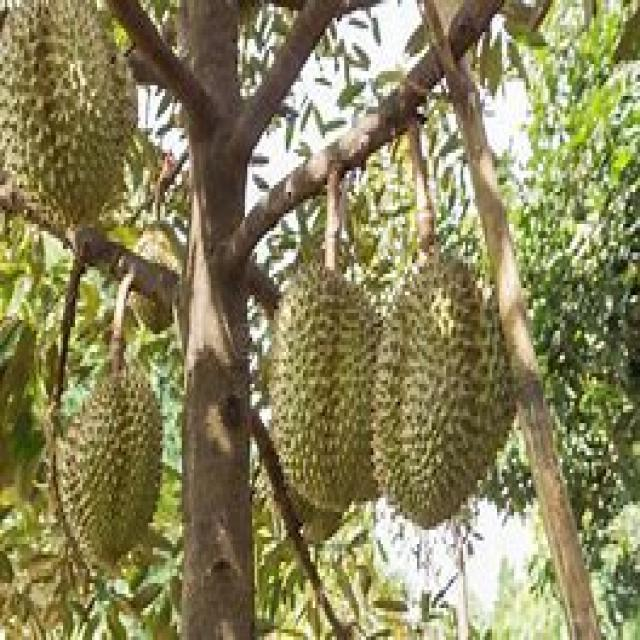mature: (372, 253, 515, 527), (0, 2, 135, 225), (270, 270, 378, 511), (56, 365, 161, 567)
